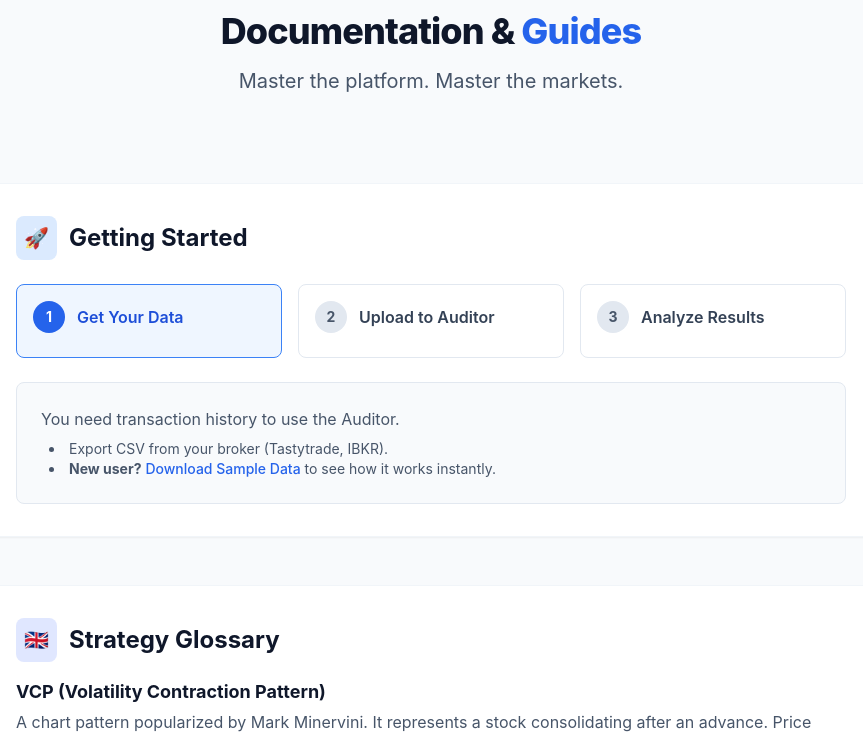
Test: Docs Component › handles interactive steps
Expected: the list item "Export CSV from your broker (Tastytrade, IBKR)." is shown, [69,440,388,457]
# Click Step 2
Click the heading "Upload to Auditor" at point(427, 317), box [359,305,494,329]
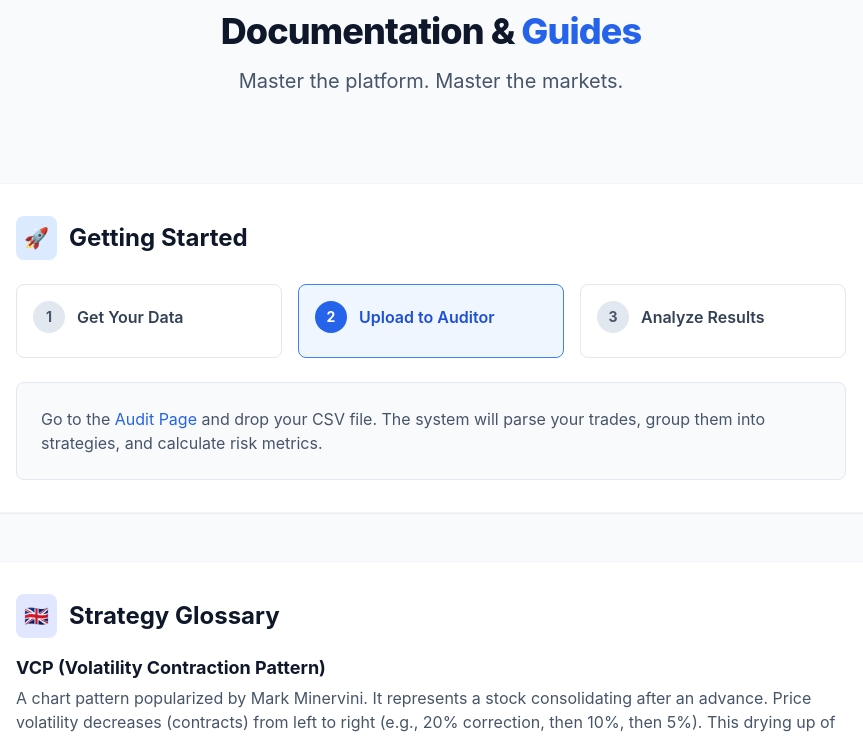
Result: the text "Go to the" is shown at [41,409,115,429]
Result: the link "Audit Page" is shown at [115,409,197,429]
